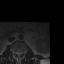CCS_normal: (17, 50, 19, 57)
LFS_normal: (21, 50, 23, 55)
LLS_normal: (19, 50, 21, 56)
RFS_normal: (14, 50, 16, 55)
RLS_normal: (16, 50, 17, 56)
